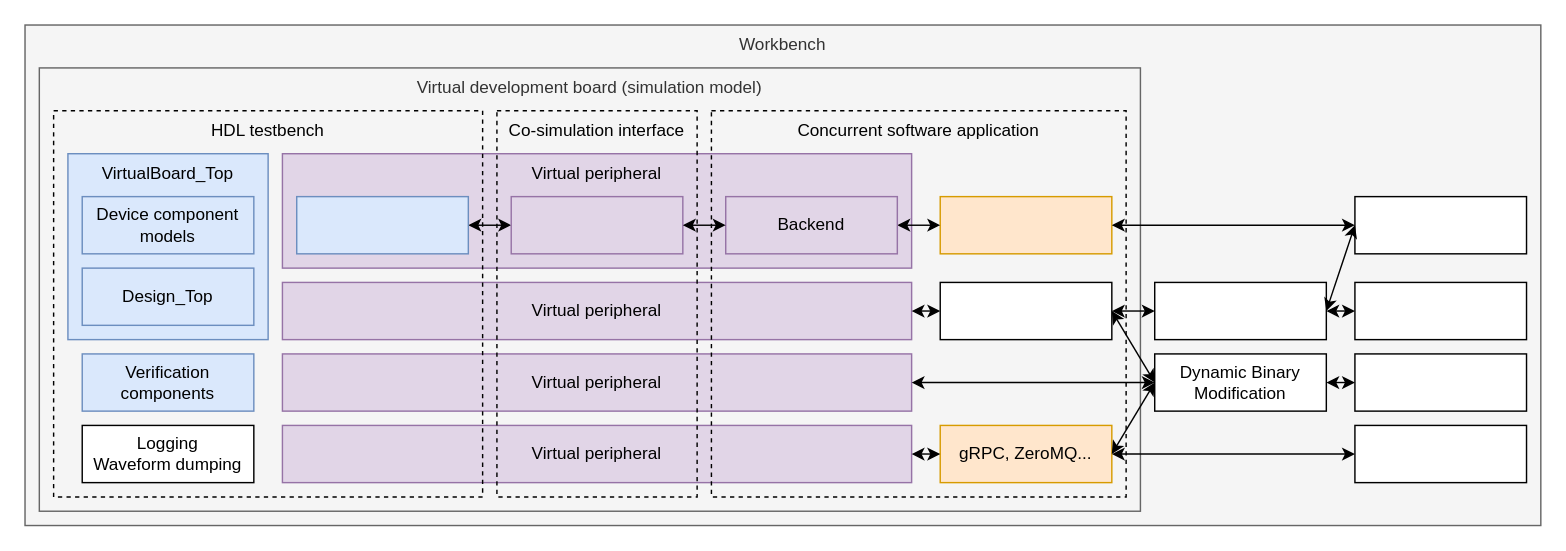
The diagram is 1566 pixels wide and 551 high, and some of its shapes have lost their labels. Each missing label, with the centre of its shape:
Desktop window, mouse, keyboard...: pixel 1440 224
HDL module/component: pixel 381 224
HTTP(s): pixel 1025 310
JS/TS frontend: pixel 1239 310
Remote/concurrent application: pixel 1440 453
Transport: pixel 596 224
Unmodified binary application: pixel 1440 381
Web browser: pixel 1440 310
X11, Gtk, Qt...: pixel 1025 224
